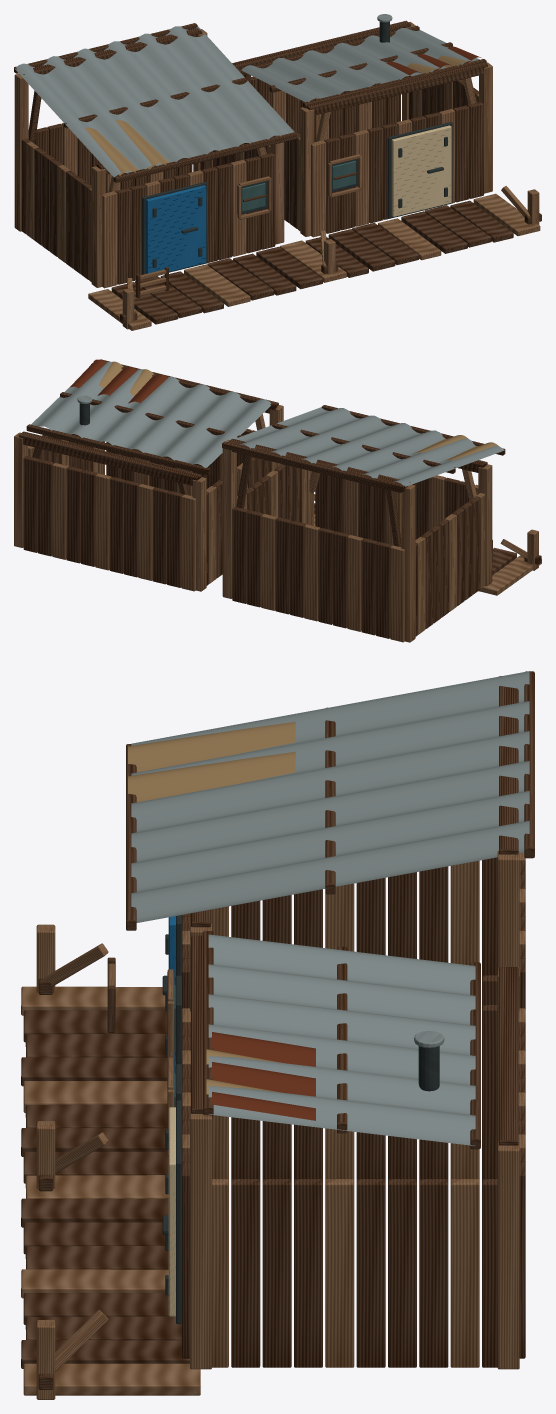
Rendered from scavenger_housing.glb.
3 renders of one model, top to bottom at view 1: azimuth 30°, elevation 25°; view 2: azimuth 150°, elevation 25°; view 3: azimuth 270°, elevation 25°, orthographic. The views are drawn at different scales.
Visible parts, largest first — view 1: Cottage front reclaimed vertical board; view 2: Cottage front reclaimed vertical board; view 3: Cottage front reclaimed vertical board.
Part boxes in pixels (left/top/right/bottom): Cottage front reclaimed vertical board: left=14, top=14, right=541, bottom=330; Cottage front reclaimed vertical board: left=14, top=359, right=541, bottom=642; Cottage front reclaimed vertical board: left=21, top=671, right=534, bottom=1399.
Size of the model in its own units: 16.66 by 6.51 by 8.85.
9 materials, 9 textured.
